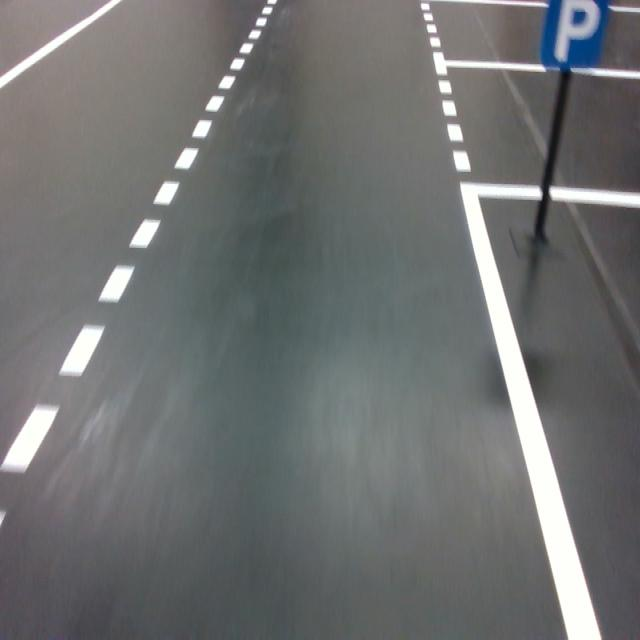parking-sign: (540, 0, 609, 68)
